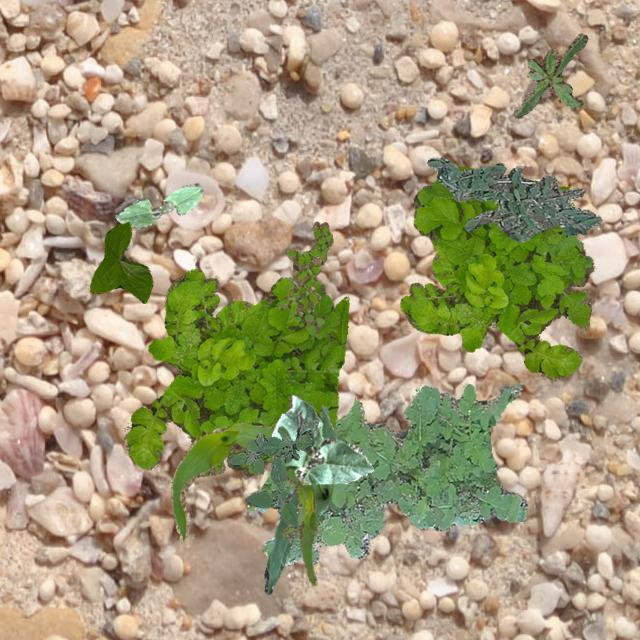crop: (170, 422, 316, 584), (263, 404, 335, 594), (271, 394, 374, 484), (88, 222, 152, 302), (114, 182, 200, 228)
weed: (244, 380, 526, 564), (122, 268, 348, 474), (400, 165, 592, 378), (427, 156, 600, 242), (225, 418, 318, 528), (274, 220, 332, 334), (512, 32, 586, 118)
